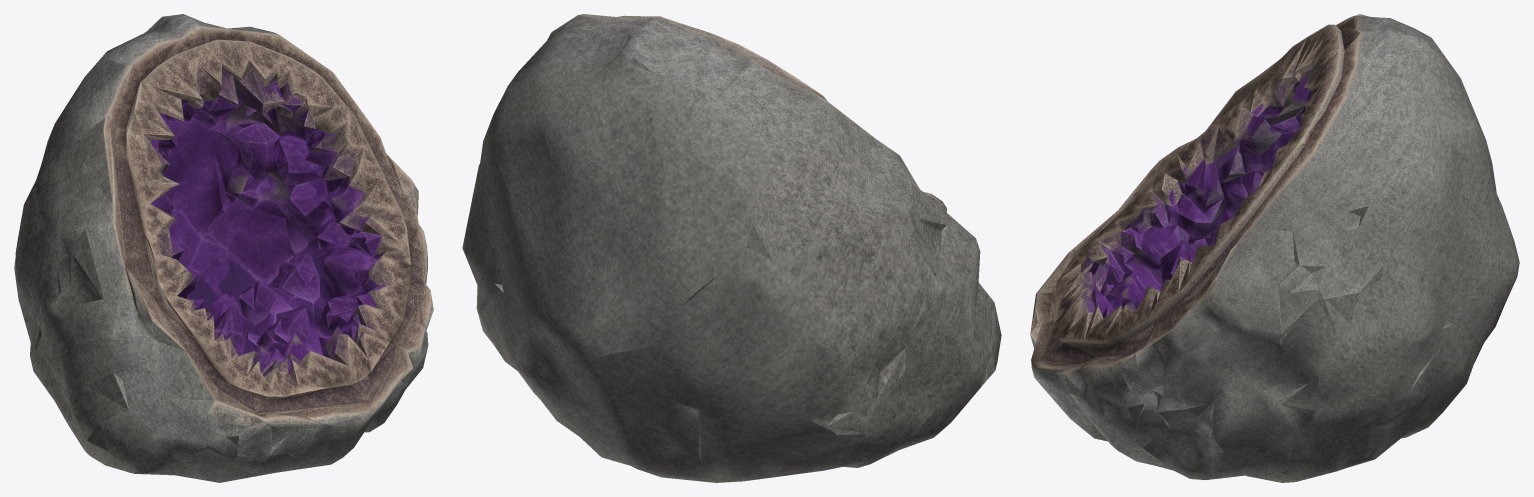
File: Amethyst.fbx
The picture shows the model from 3 angles, left to right: view 1: azimuth 30°, elevation 25°; view 2: azimuth 150°, elevation 25°; view 3: azimuth 270°, elevation 25°; orthographic projection. The views are drawn at different scales.
Parts seen in each view (by area): view 1: Mesh_0; view 2: Mesh_0; view 3: Mesh_0.
Part boxes in pixels (x1,y1,x2,y2): Mesh_0: (14, 14, 433, 482); Mesh_0: (462, 14, 1001, 482); Mesh_0: (1030, 14, 1519, 482).
Size of the model in its own units: 179 by 172 by 190.
1 material, 1 textured.
